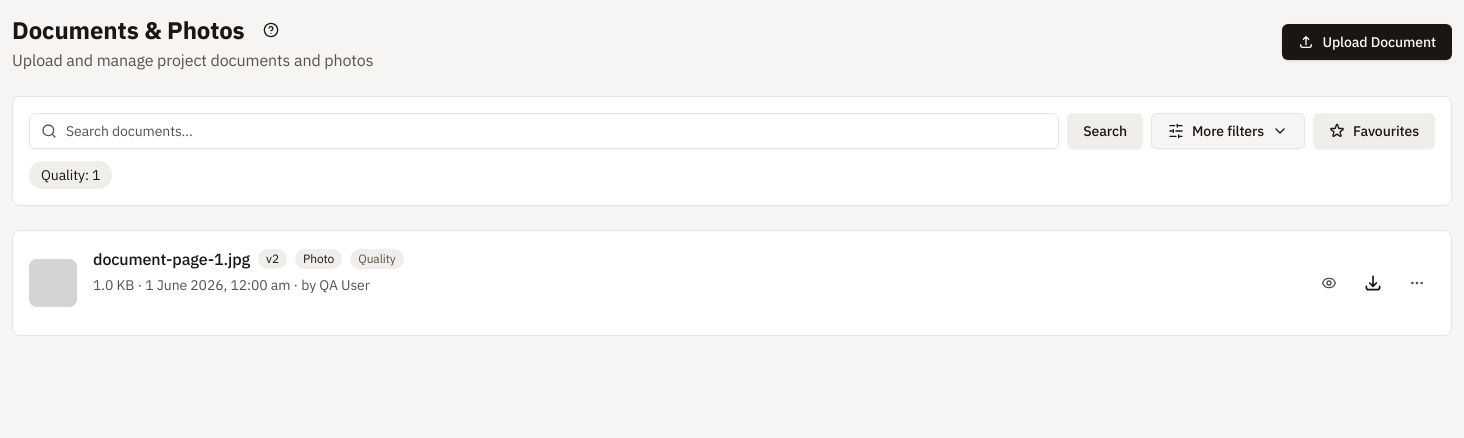
it: DocumentsPage › keeps one filter mechanism on desktop: chips visible, the rest behind More filters
The width and height of the screenshot is (1464, 438).
Expected: the button "Quality: 1" is shown, [29,161,112,189]
Expected: the field labelled "Document Type" is not shown
Click the button "More filters" at (1228, 131), box [1151,113,1305,149]
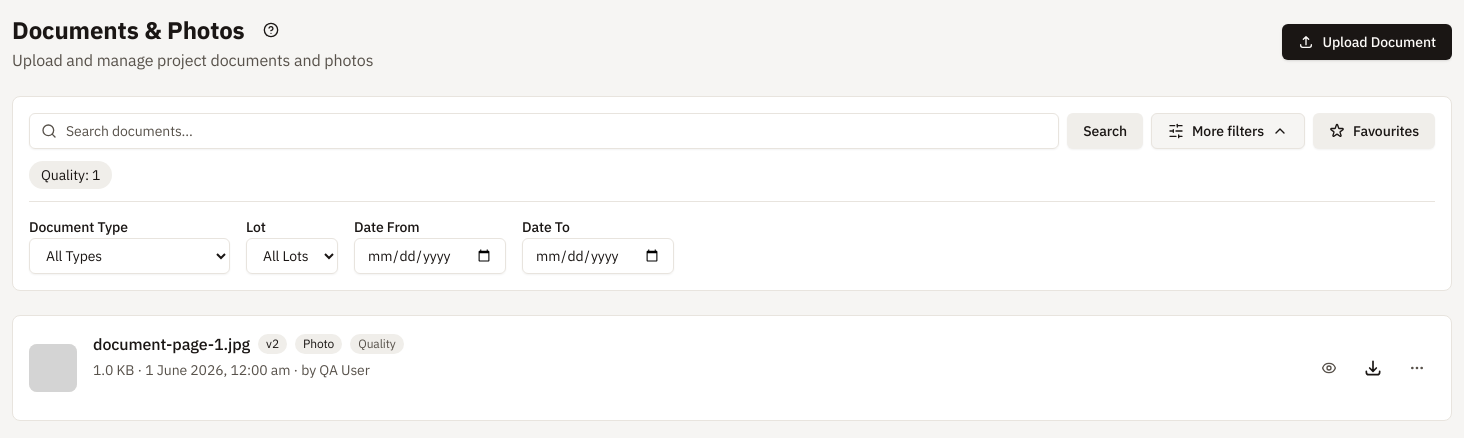
Select "Photo" in the dropdown labelled "Document Type" at (130, 256), box [29,238,230,274]
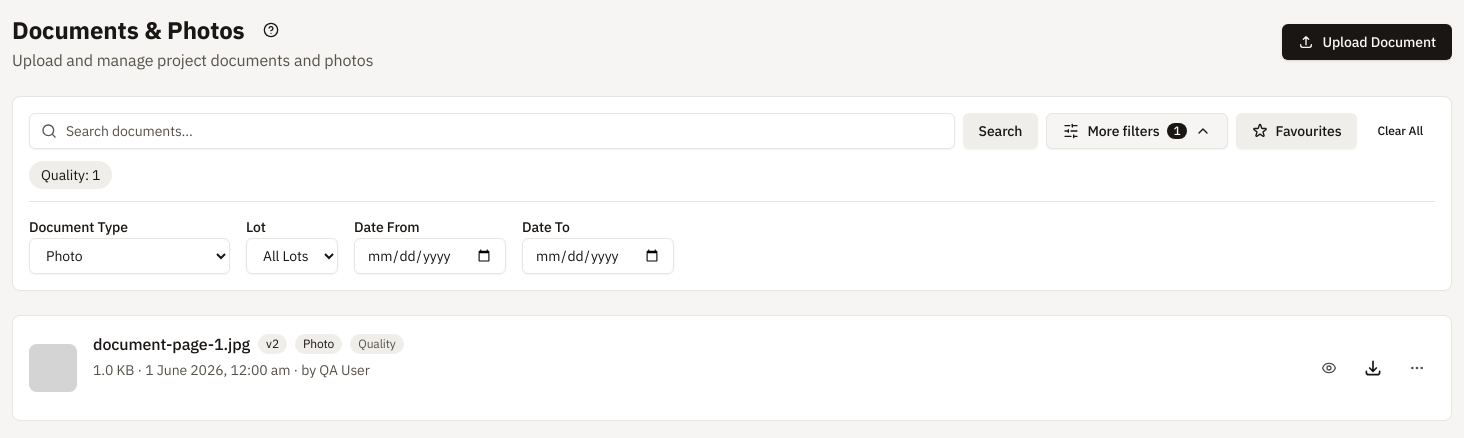
Expected: the button with aria-label "More filters, 1 active" is shown, [1046,113,1228,149]
